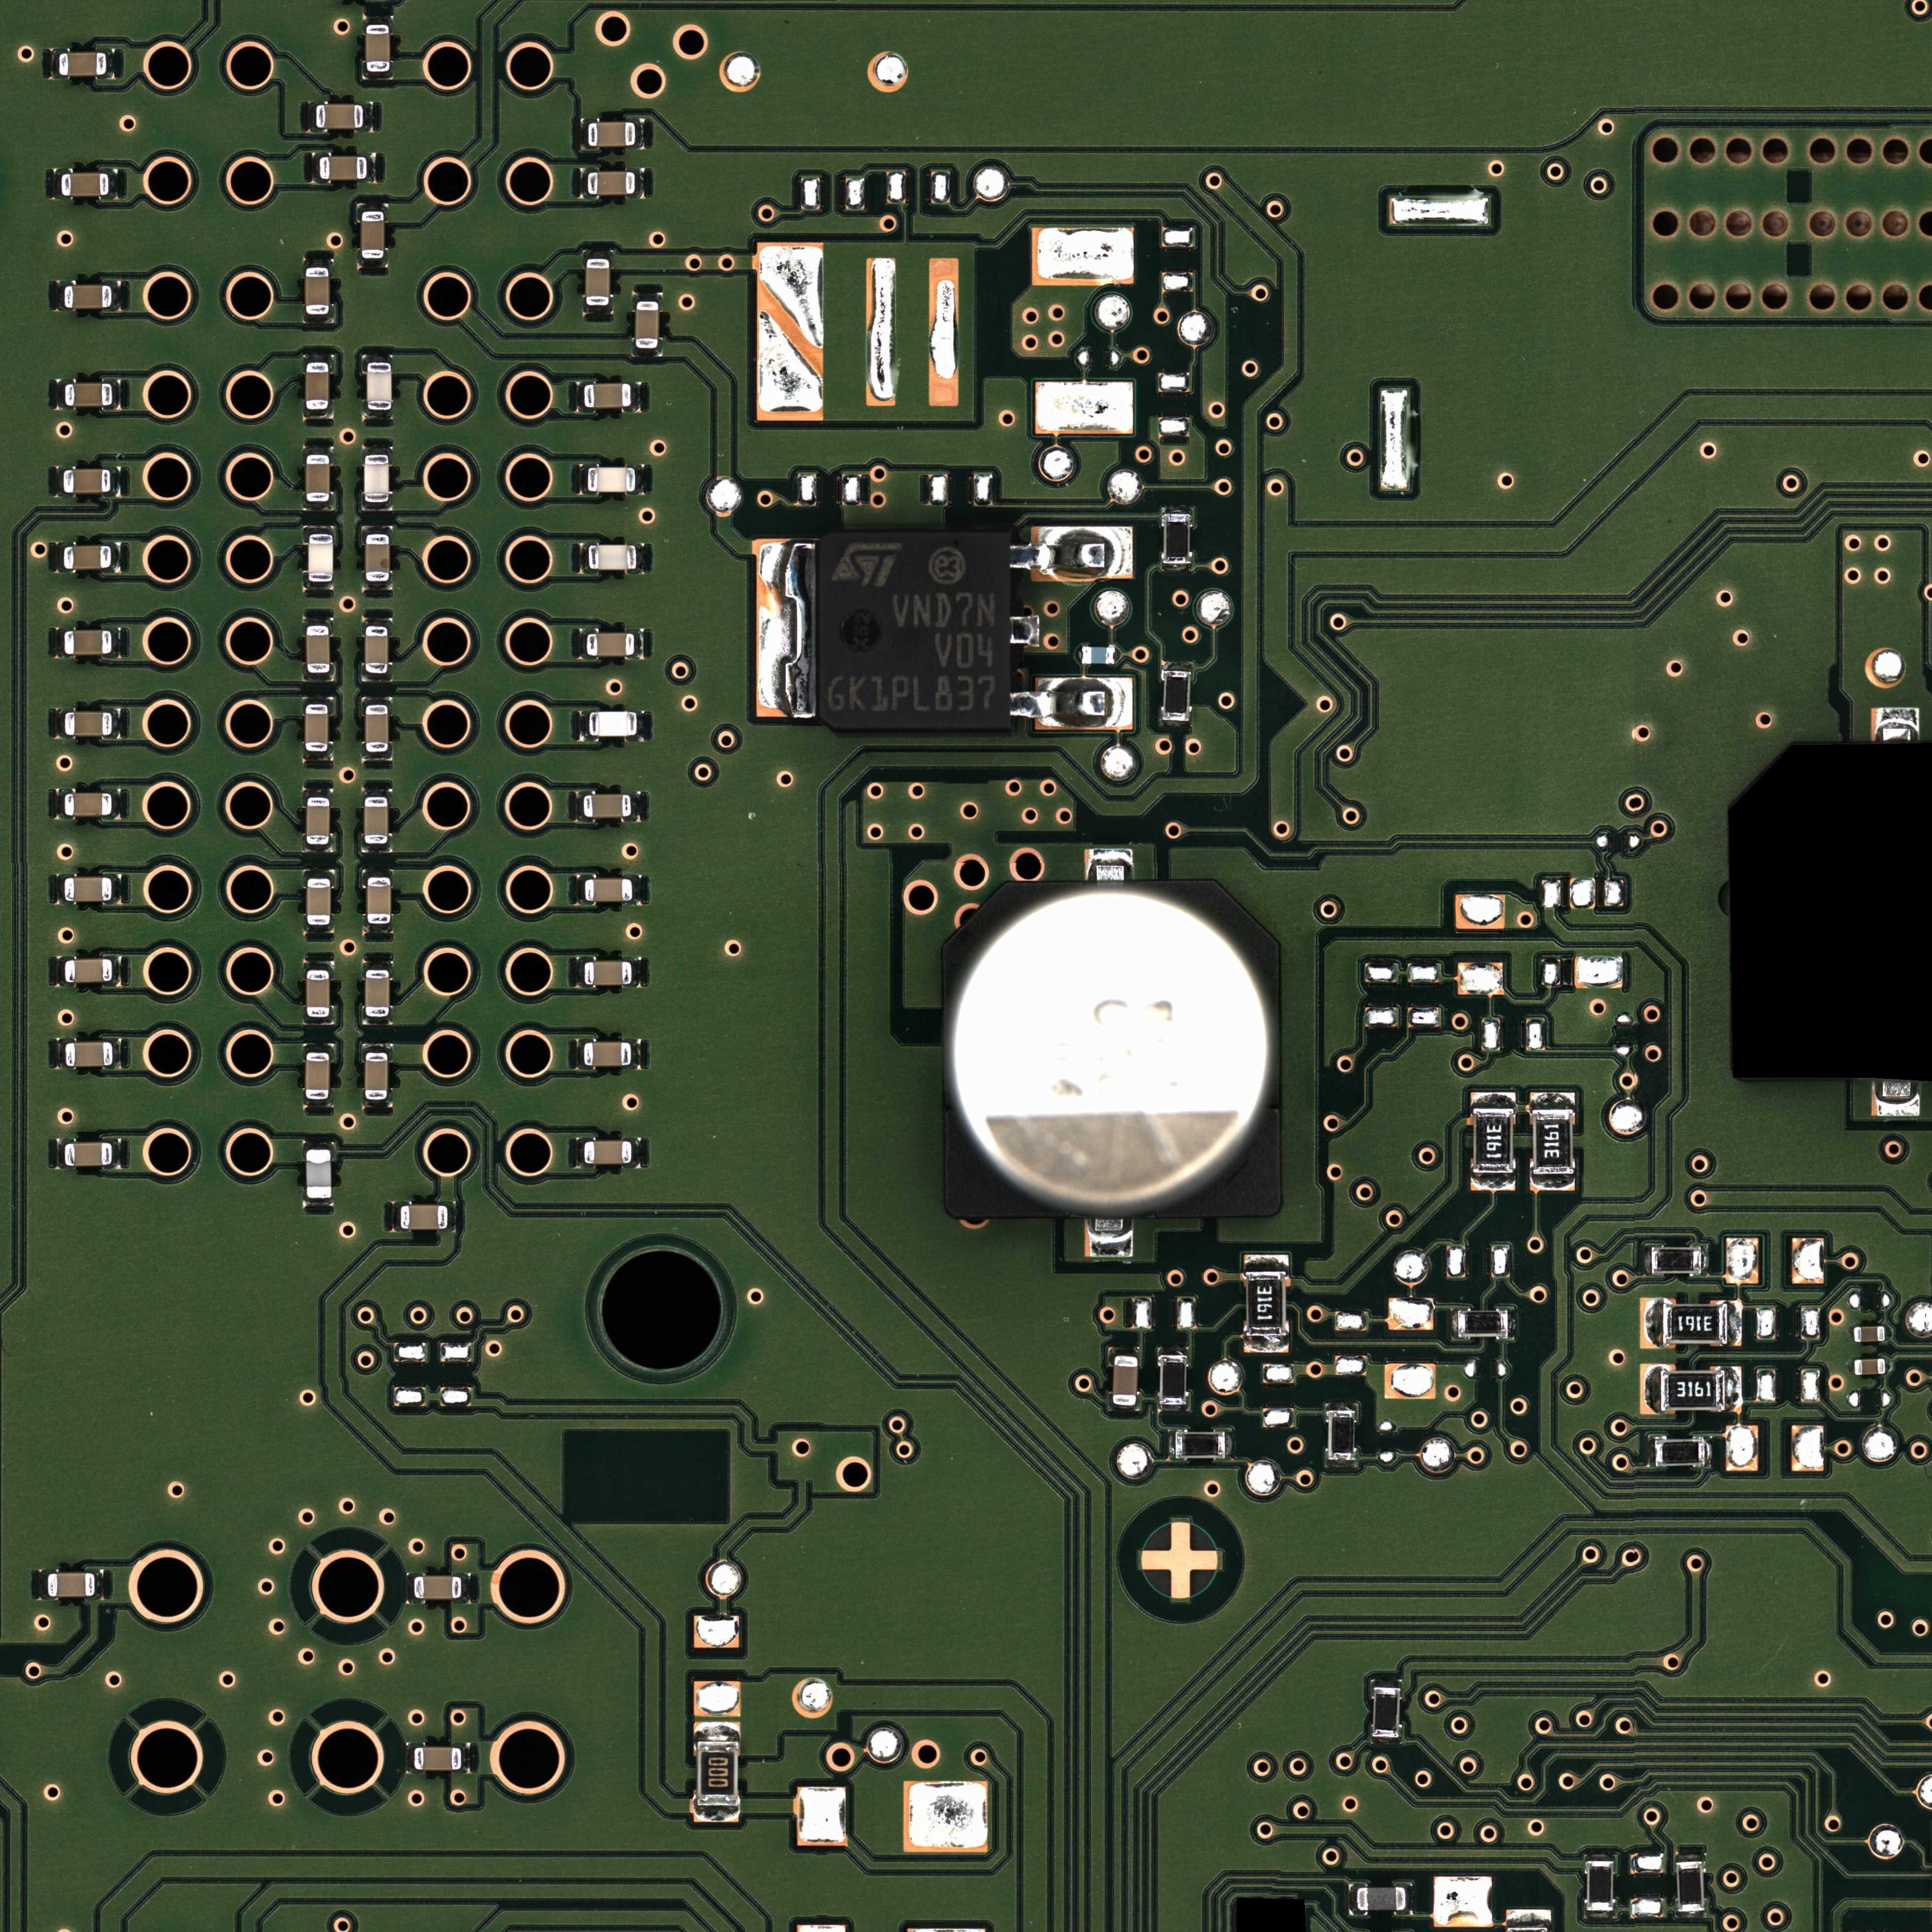Package: (943, 883, 1281, 1217), (816, 531, 1010, 729), (1472, 1108, 1514, 1173), (697, 1741, 738, 1806), (1660, 1369, 1725, 1410), (1532, 1109, 1573, 1175), (1663, 1304, 1729, 1345), (1246, 1272, 1286, 1336), (1651, 1247, 1702, 1274), (1162, 671, 1189, 720), (1656, 1438, 1706, 1465), (1458, 1311, 1507, 1338), (1677, 1861, 1704, 1911), (1373, 1688, 1399, 1737), (1587, 1861, 1614, 1911), (589, 711, 637, 738), (64, 878, 113, 902), (1164, 515, 1189, 564), (1175, 1433, 1224, 1458), (1329, 1410, 1353, 1460), (1161, 1355, 1185, 1405), (308, 534, 333, 582), (364, 455, 389, 502), (589, 545, 637, 570), (364, 534, 389, 582), (320, 156, 368, 180), (587, 467, 635, 492), (65, 711, 113, 736), (586, 258, 610, 306), (587, 172, 635, 196), (64, 285, 111, 310), (64, 630, 111, 655), (64, 545, 111, 570), (366, 25, 391, 73), (306, 878, 331, 925), (315, 104, 363, 129), (364, 626, 389, 674), (584, 961, 632, 985), (587, 122, 635, 147), (635, 301, 660, 349), (304, 267, 329, 315), (64, 469, 111, 494), (584, 384, 632, 409), (366, 363, 391, 410), (304, 704, 329, 752), (364, 970, 389, 1017), (400, 1205, 448, 1230), (65, 1042, 113, 1067), (414, 1746, 462, 1771), (306, 1150, 331, 1198), (48, 1573, 96, 1598), (584, 1042, 632, 1067), (1357, 1886, 1405, 1911), (1113, 1357, 1138, 1405), (65, 959, 111, 984), (586, 878, 632, 902), (65, 382, 111, 407), (364, 706, 389, 752), (366, 878, 391, 924), (364, 796, 387, 844), (58, 53, 106, 76), (64, 793, 111, 816), (62, 173, 110, 196), (587, 633, 635, 656), (584, 794, 632, 817), (361, 211, 384, 258), (306, 625, 329, 672), (414, 1576, 462, 1599), (584, 1141, 632, 1164), (306, 970, 329, 1017), (64, 1143, 111, 1166), (306, 798, 329, 844), (306, 455, 329, 501), (306, 363, 329, 409), (306, 1053, 329, 1099), (364, 1053, 387, 1099), (1081, 646, 1115, 663), (1854, 1325, 1886, 1343), (1854, 1359, 1886, 1375)
Solder: (755, 540, 816, 717), (1010, 676, 1132, 731), (1012, 525, 1132, 580), (1874, 1077, 1921, 1118), (1085, 1219, 1132, 1258), (1085, 849, 1132, 881), (1872, 708, 1920, 740), (1642, 1297, 1661, 1350), (1640, 1364, 1660, 1415), (1010, 616, 1040, 646), (694, 1723, 740, 1741), (1244, 1336, 1290, 1353), (1530, 1092, 1575, 1109), (1725, 1366, 1741, 1414), (694, 1806, 740, 1822), (1244, 1254, 1290, 1270), (1470, 1092, 1516, 1108), (1470, 1175, 1516, 1191), (1530, 1175, 1576, 1191), (1506, 1909, 1552, 1925), (1729, 1300, 1743, 1346), (51, 168, 62, 198), (37, 1569, 48, 1599), (632, 791, 642, 821), (632, 1138, 642, 1168), (632, 957, 642, 987), (632, 1040, 642, 1070), (363, 103, 373, 131), (303, 315, 334, 324), (111, 280, 120, 311), (113, 379, 122, 410), (361, 844, 393, 853), (303, 672, 334, 681), (303, 582, 334, 591), (361, 582, 393, 591), (303, 502, 334, 511), (361, 502, 393, 511), (303, 1044, 334, 1053), (303, 961, 334, 970), (635, 168, 644, 200), (635, 628, 644, 660), (580, 709, 589, 741), (1108, 1405, 1139, 1414), (1325, 1460, 1357, 1468), (1348, 1884, 1357, 1916), (1583, 1911, 1615, 1920), (363, 16, 393, 25), (363, 354, 393, 363), (363, 410, 393, 419), (363, 446, 393, 455), (111, 467, 120, 497), (303, 354, 333, 363), (55, 379, 64, 409), (303, 410, 333, 419), (55, 281, 64, 311), (303, 446, 333, 455), (311, 152, 320, 182), (110, 168, 119, 198), (304, 869, 334, 878), (363, 752, 393, 761), (363, 617, 393, 626), (303, 789, 333, 798), (363, 525, 393, 534), (363, 869, 393, 878), (304, 925, 334, 934), (111, 789, 120, 819), (303, 752, 333, 761), (303, 617, 333, 626), (363, 925, 393, 934), (304, 525, 334, 534), (363, 1044, 393, 1053), (363, 961, 393, 970), (57, 1039, 65, 1069), (448, 1201, 456, 1231), (462, 1573, 471, 1603), (462, 1743, 471, 1773), (405, 1743, 414, 1773), (96, 1569, 104, 1599), (632, 349, 662, 357), (632, 382, 640, 412), (633, 876, 642, 906), (579, 543, 587, 573), (575, 791, 584, 821), (1162, 662, 1192, 671), (1159, 1346, 1189, 1355), (1109, 1346, 1139, 1355), (1325, 1401, 1355, 1410), (1371, 1677, 1401, 1686), (1166, 1430, 1175, 1460), (1224, 1430, 1233, 1460), (1700, 1246, 1709, 1276), (1675, 1852, 1706, 1861), (1585, 1852, 1615, 1861), (1675, 1911, 1706, 1920), (304, 258, 333, 267), (368, 154, 377, 182), (55, 467, 64, 495), (111, 543, 120, 571), (111, 628, 120, 656), (633, 292, 662, 301), (584, 306, 612, 315), (584, 249, 612, 258), (1162, 564, 1191, 573), (51, 48, 58, 80), (303, 1017, 334, 1024), (303, 1141, 334, 1148), (303, 1200, 334, 1207), (577, 380, 584, 412), (637, 119, 644, 150), (580, 119, 587, 150), (1407, 1882, 1414, 1914), (1509, 1307, 1516, 1339), (1644, 1244, 1651, 1276), (1647, 1435, 1654, 1467), (363, 73, 393, 80), (357, 260, 387, 267), (357, 203, 387, 211), (361, 674, 391, 681), (57, 789, 64, 819), (303, 697, 333, 704), (57, 708, 64, 738), (113, 874, 120, 904), (57, 874, 64, 904), (303, 846, 333, 853), (57, 628, 64, 658), (363, 1017, 393, 1024), (113, 1039, 120, 1069), (57, 1139, 64, 1169), (113, 1139, 120, 1169), (113, 955, 120, 985), (393, 1201, 400, 1231), (407, 1573, 414, 1603), (580, 168, 587, 198), (580, 464, 587, 494), (637, 543, 644, 573), (577, 874, 584, 904), (637, 711, 644, 741), (580, 628, 587, 658), (577, 1039, 584, 1069), (577, 1138, 584, 1168), (577, 957, 584, 987), (1162, 506, 1192, 513), (1157, 1405, 1187, 1412), (1451, 1309, 1458, 1339), (1706, 1437, 1713, 1467), (308, 103, 315, 131), (108, 50, 115, 78), (363, 697, 391, 704), (113, 709, 120, 738), (57, 543, 64, 571), (363, 789, 391, 796), (363, 1100, 391, 1108), (304, 1100, 333, 1108), (58, 957, 65, 985), (635, 465, 642, 494), (1162, 720, 1191, 727), (1371, 1737, 1399, 1744), (1076, 646, 1083, 663), (1847, 1359, 1854, 1375), (1847, 1325, 1854, 1341), (1115, 648, 1120, 663), (1886, 1325, 1891, 1341), (1886, 1359, 1891, 1373)
